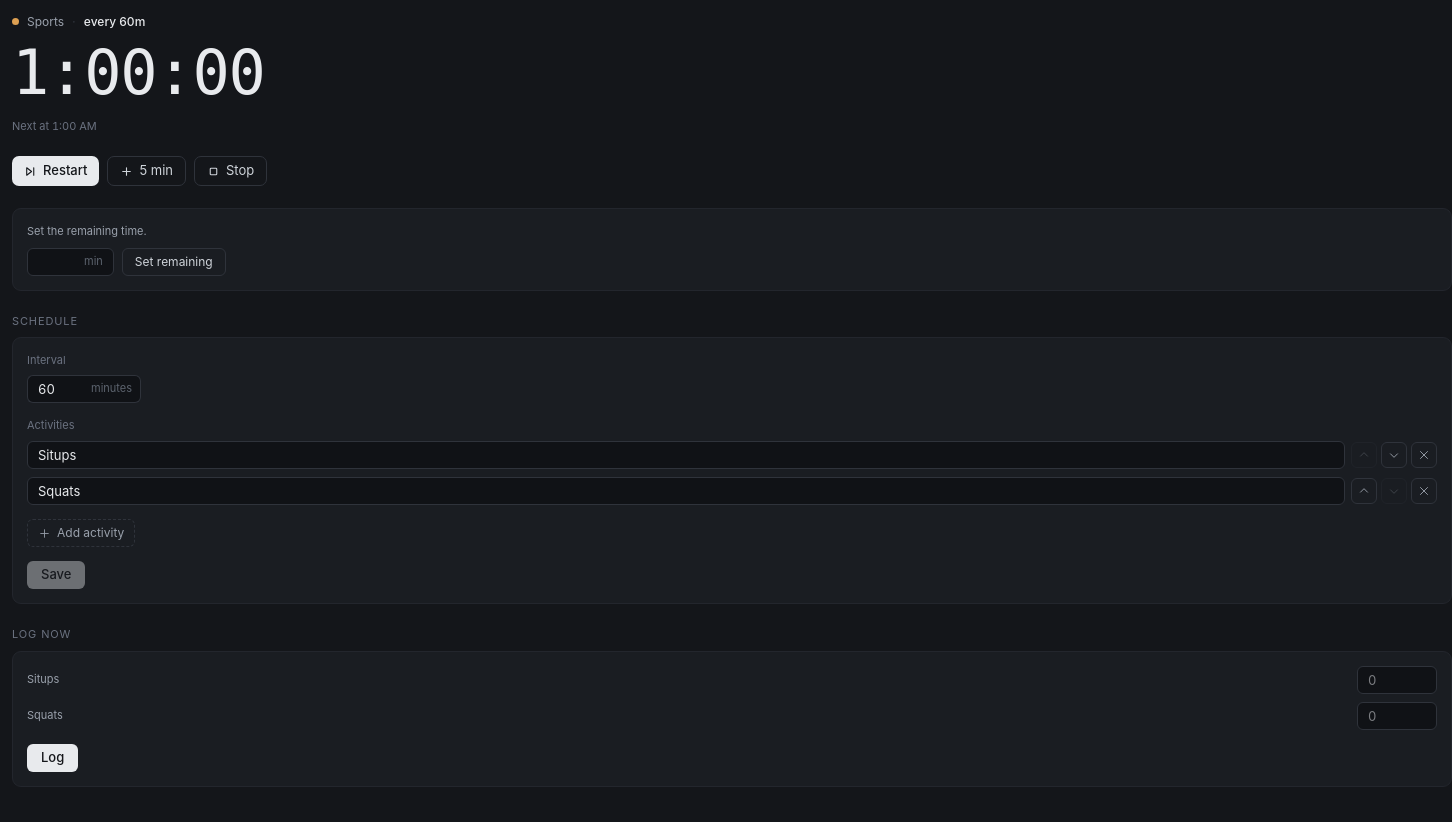
Test: a schedule that cannot run › refuses to save with no activities, and says why
Expected: the 1st field showing "Situps" is shown, [27,441,1345,469]
Click the button named "Delete activity 1" at [1424, 455], box [1411,442,1437,468]
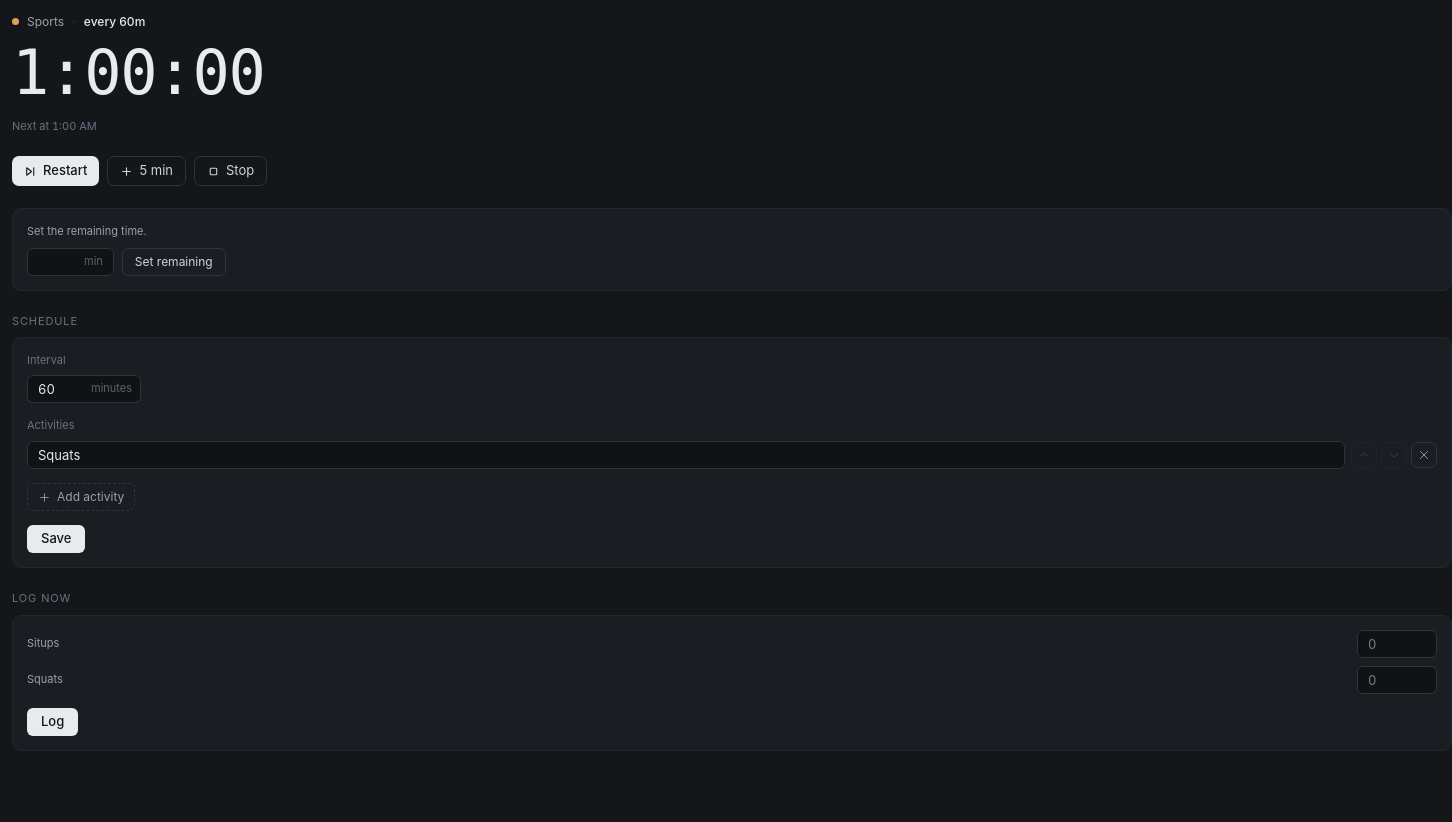
Click the button named "Delete activity 1" at [1424, 455], box [1411,442,1437,468]
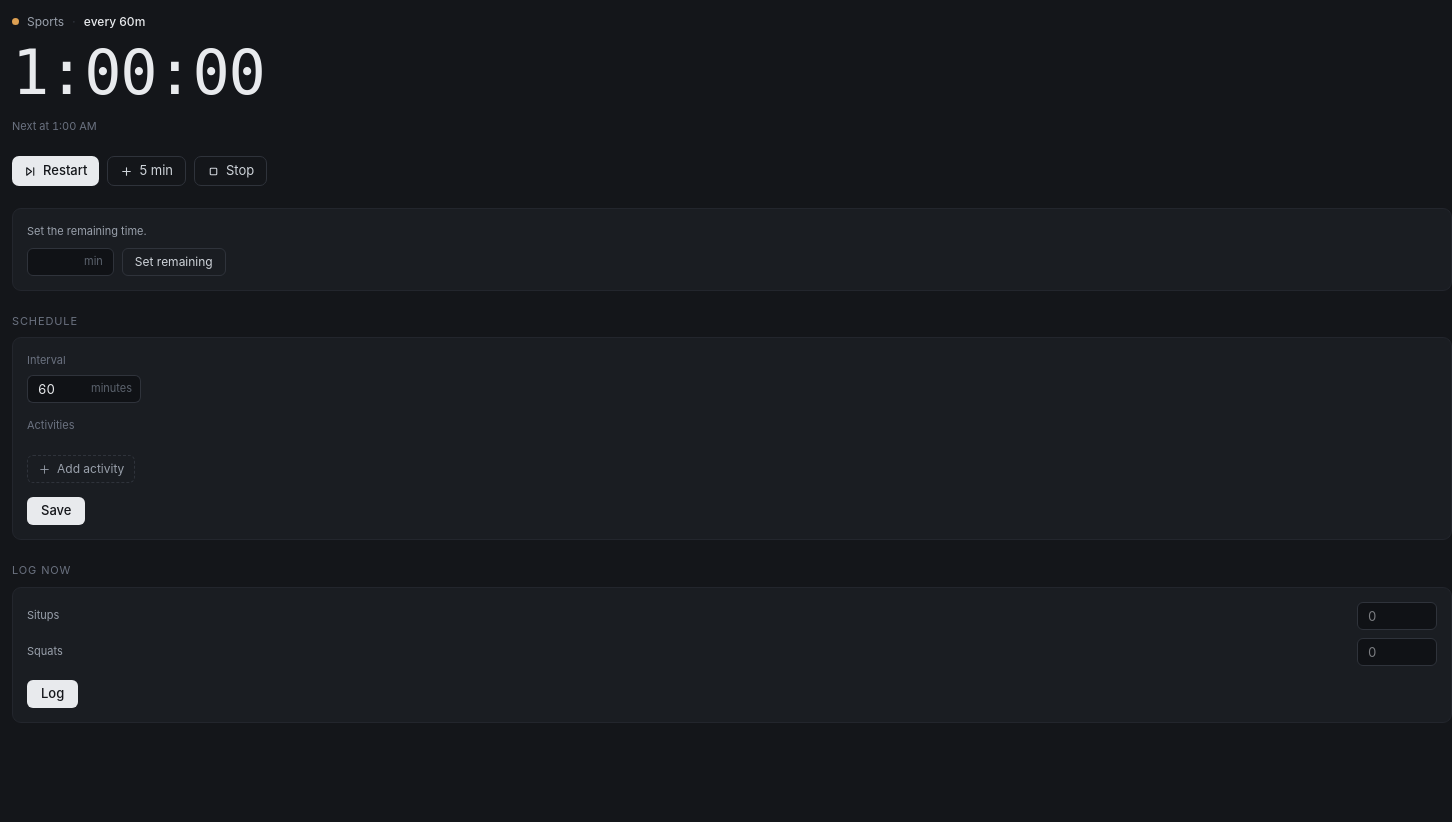
Click the button "Save" at [56, 511], box [27,497,85,525]
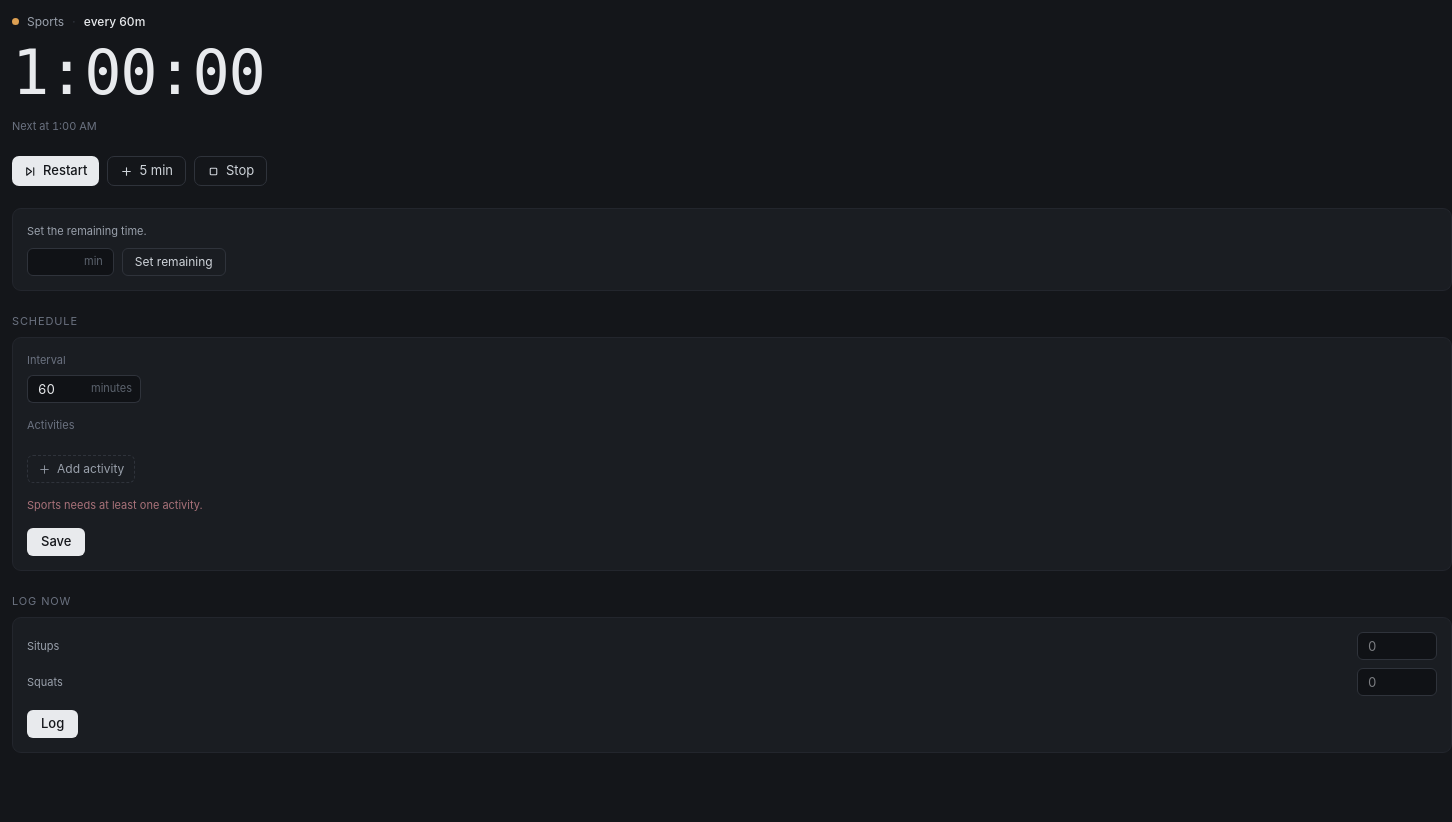
Expected: the list item "Sports needs at least one activity." is shown, [27,498,203,512]
